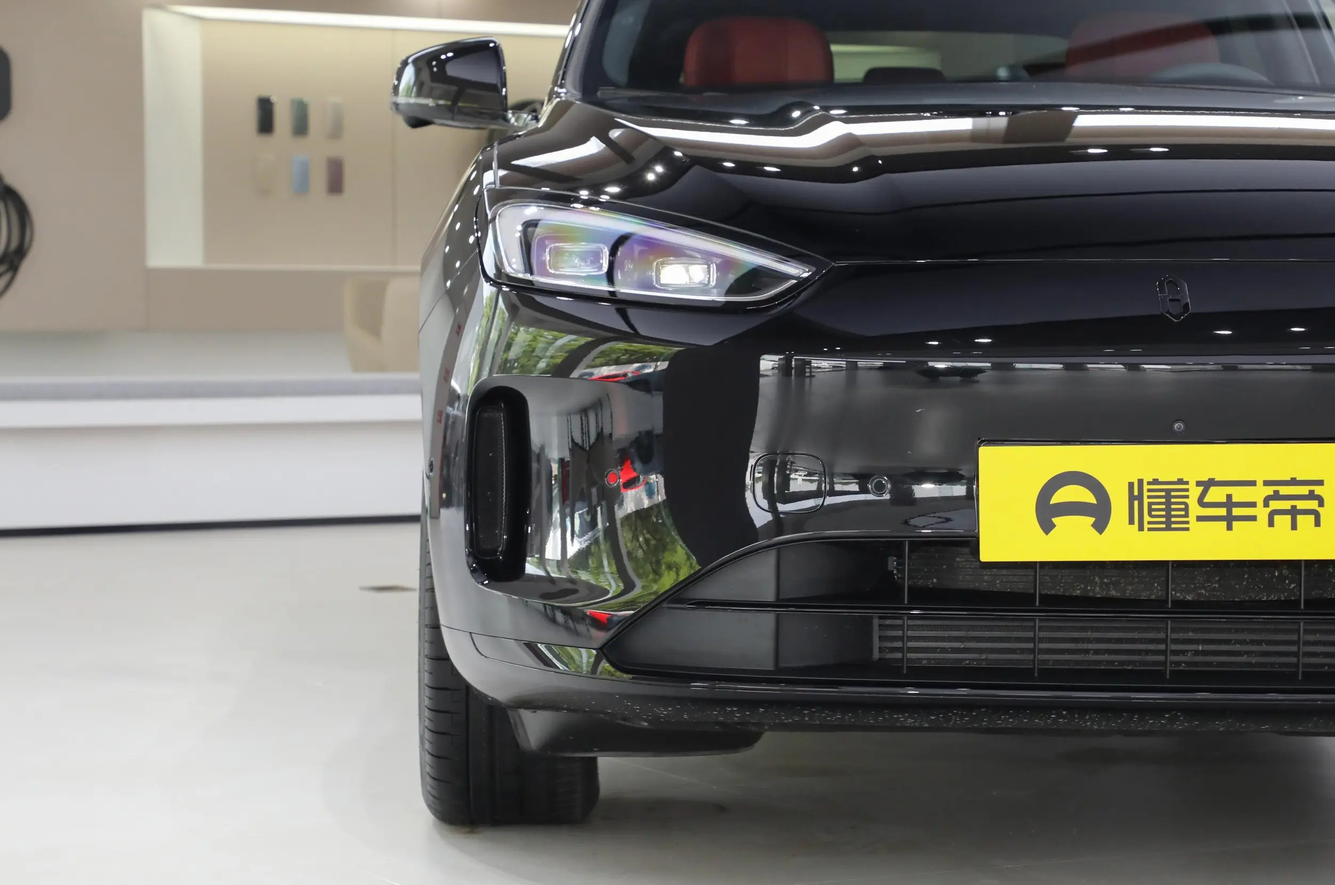AITO: (1157, 275, 1190, 321)
